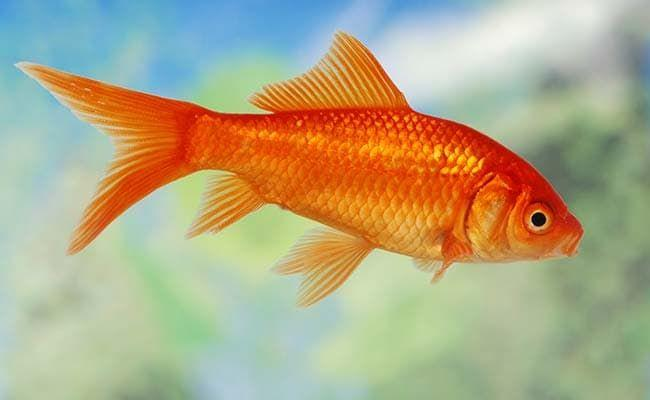Gold Fish: (16, 32, 583, 312)
